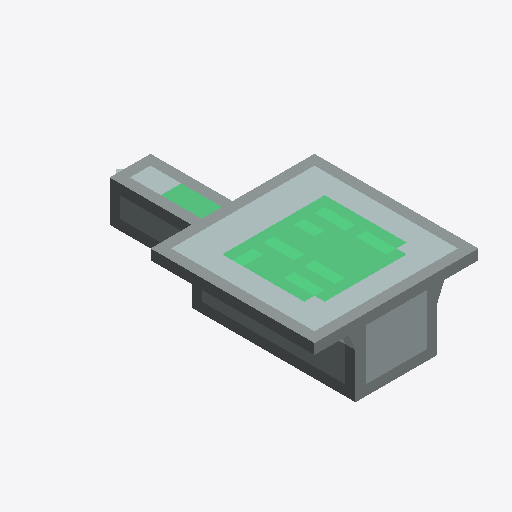
Isometric view (azimuth 45°, elevation 35.3°) of a Minecraft model made of 8 cuboids, textured from the same repository.
Visible parts, largest first — element 4, element 1, element 5.
Boxes of the visible parts, x1=… form: element 4: x1=151, y1=154, x2=477, y2=354; element 1: x1=192, y1=284, x2=436, y2=401; element 5: x1=110, y1=154, x2=231, y2=247.
Size of the model in its own units: 4 by 1.75 by 6.85.